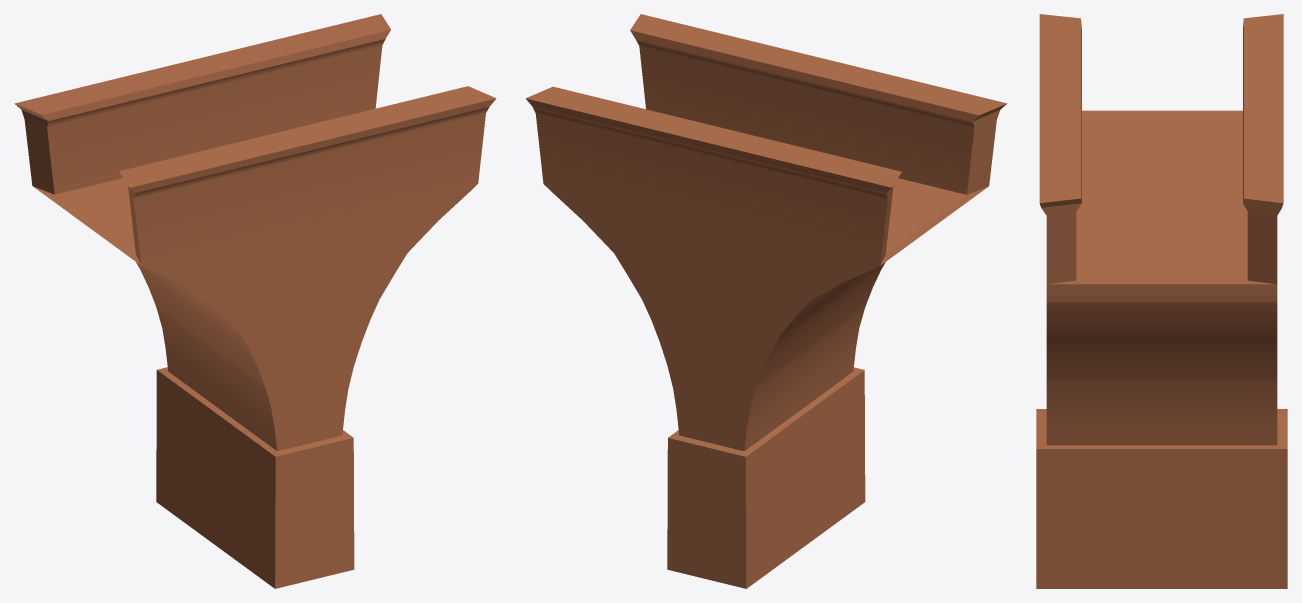
Rendered from old_bridge04.fbx.
The picture shows the model from 3 angles, left to right: view 1: azimuth 30°, elevation 25°; view 2: azimuth 150°, elevation 25°; view 3: azimuth 270°, elevation 25°; orthographic projection. The views are drawn at different scales.
Visible parts, largest first — view 1: old_bridge04; view 2: old_bridge04; view 3: old_bridge04.
Part boxes in pixels (box(x1,y1,x2,y2)): old_bridge04: box(14, 14, 496, 588); old_bridge04: box(526, 14, 1007, 588); old_bridge04: box(1036, 14, 1287, 588).
Bounding box in the file's own units: 9.27 × 10.5 × 5.2.
